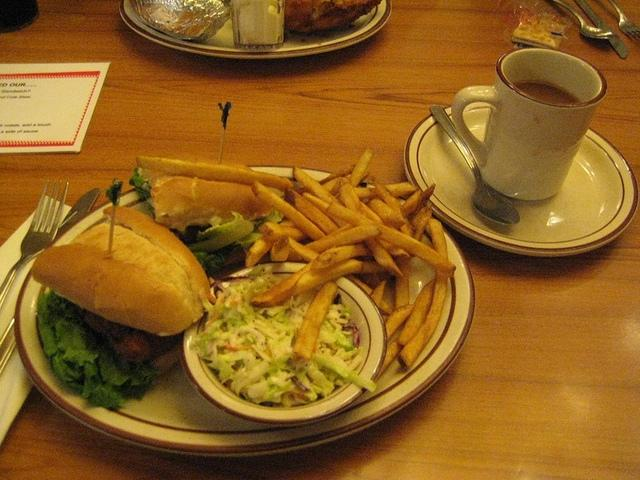lettuce: (36, 289, 160, 409), (187, 210, 254, 253), (128, 166, 152, 199), (234, 232, 264, 256), (192, 252, 228, 272)
